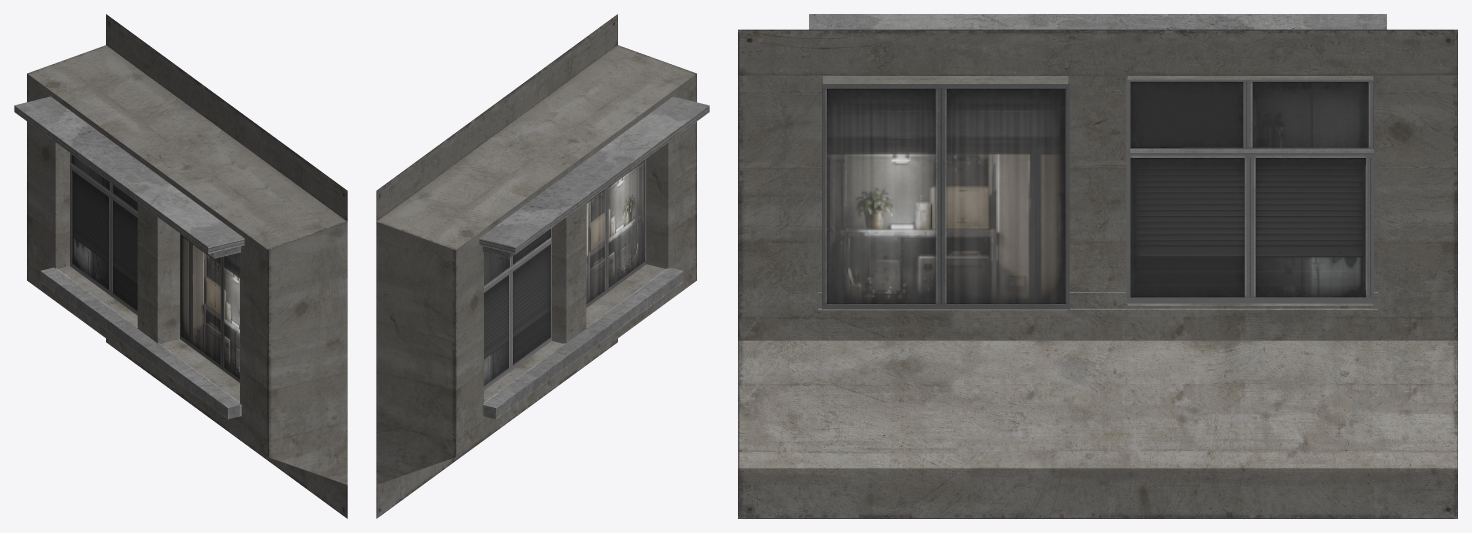
The model's file is CP_Windows_C_4x3m_05.fbx.
The picture shows the model from 3 angles, left to right: view 1: azimuth 30°, elevation 25°; view 2: azimuth 150°, elevation 25°; view 3: azimuth 270°, elevation 25°; orthographic projection. The views are drawn at different scales.
Visible parts, largest first — view 1: CP_Windows_C_4x3m_05; view 2: CP_Windows_C_4x3m_05; view 3: CP_Windows_C_4x3m_05.
Boxes of the visible parts, bbox=[...] form: CP_Windows_C_4x3m_05: bbox=[14, 14, 347, 518]; CP_Windows_C_4x3m_05: bbox=[376, 14, 709, 518]; CP_Windows_C_4x3m_05: bbox=[738, 14, 1457, 518].
Size of the model in its own units: 110 by 300 by 400.
